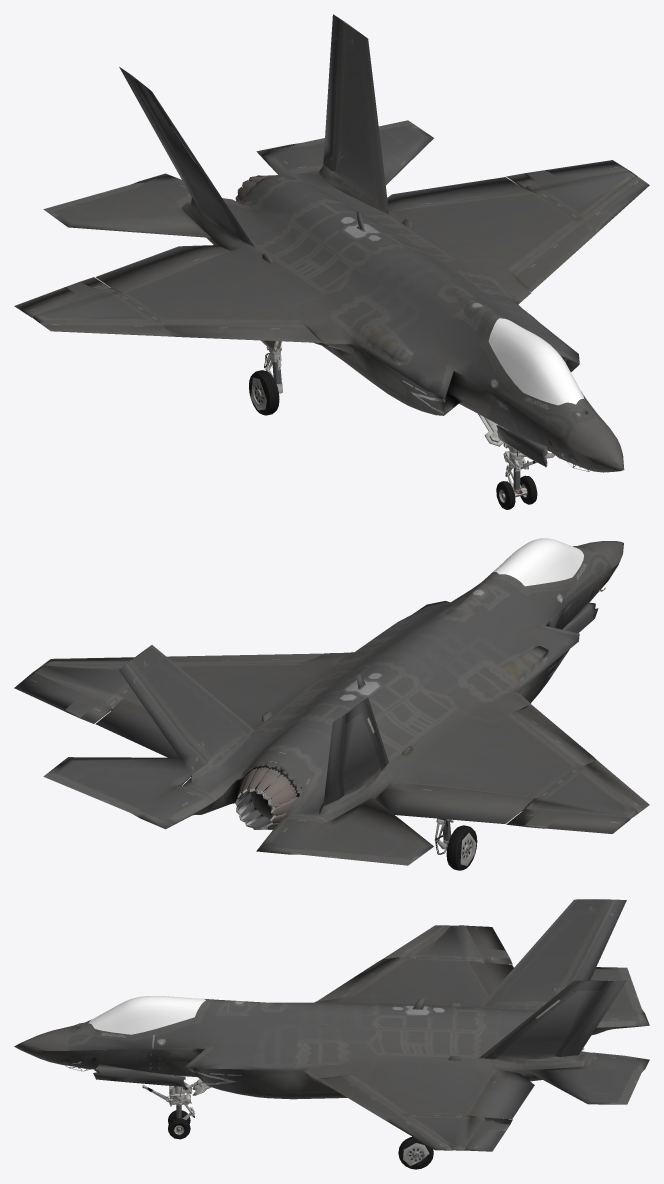
The model's file is jet_f35.glb.
3 views of the same model, one above another, from view 1: azimuth 30°, elevation 25°; view 2: azimuth 150°, elevation 25°; view 3: azimuth 270°, elevation 25° (orthographic). The views are drawn at different scales.
Parts seen in each view (by area): view 1: BODY; view 2: BODY; view 3: BODY.
Part boxes in pixels (bbox=[...]): BODY: bbox=[14, 14, 649, 509]; BODY: bbox=[14, 538, 649, 870]; BODY: bbox=[14, 899, 649, 1169].
Bounding box in the file's own units: 13.16 × 5.32 × 15.73.
Materials: 2 (1 with a texture image).
